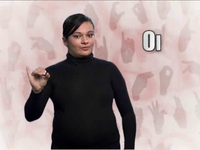oi: (23, 61, 53, 91)
